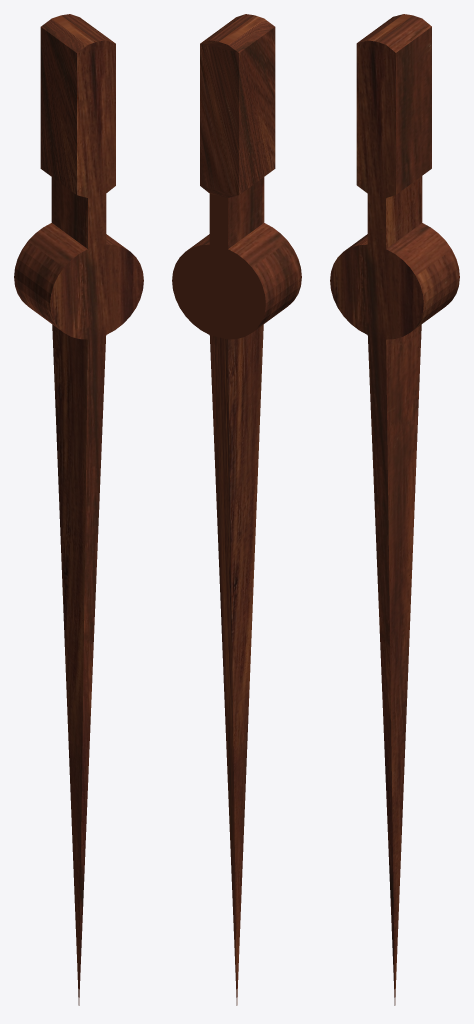
File: second.dae
3 views of the same model, side by side, from view 1: azimuth 30°, elevation 25°; view 2: azimuth 150°, elevation 25°; view 3: azimuth 330°, elevation 25° (orthographic).
Visible parts, largest first — view 1: Circle.003; view 2: Circle.003; view 3: Circle.003.
Part boxes in pixels (box(x1,y1,x2,y2)): Circle.003: box(14, 14, 143, 1005); Circle.003: box(172, 14, 301, 1005); Circle.003: box(330, 14, 459, 1005).
Bounding box in the file's own units: 6 × 4 × 60.
